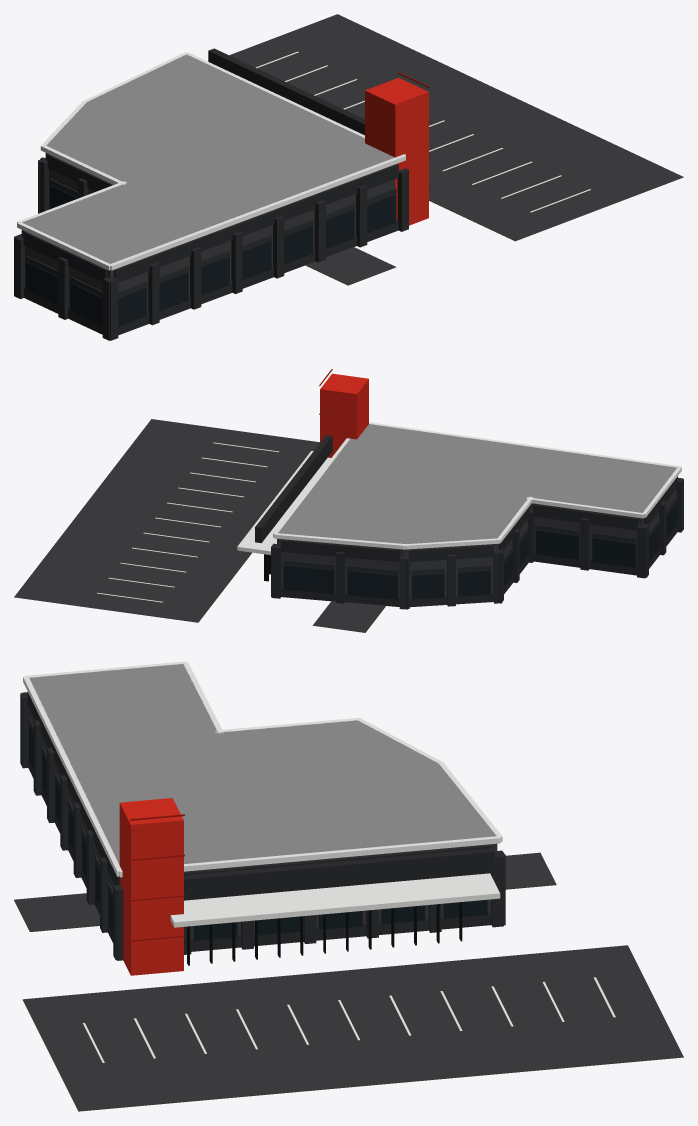
File: mcd3.glb
The picture shows the model from 3 angles, top to bottom: view 1: azimuth 30°, elevation 25°; view 2: azimuth 150°, elevation 25°; view 3: azimuth 270°, elevation 25°; orthographic projection. The views are drawn at different scales.
Visible parts, largest first — view 1: mcd3_lod0; view 2: mcd3_lod0; view 3: mcd3_lod0.
Part boxes in pixels (x1,y1,x2,y2): mcd3_lod0: [14, 14, 683, 340]; mcd3_lod0: [14, 369, 683, 632]; mcd3_lod0: [14, 661, 683, 1111].
Size of what is drawn, in the model's own units: 44.5 by 8.94 by 34.64.
